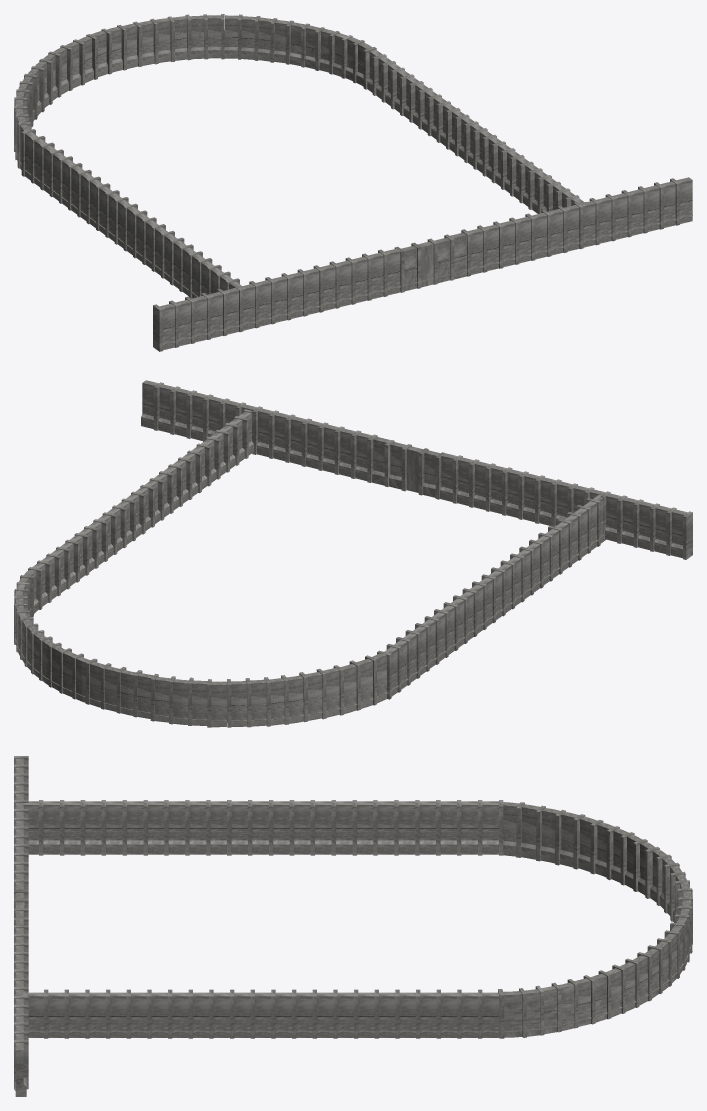
The model's file is barrier.fbx.
3 views of the same model, one above another, from view 1: azimuth 30°, elevation 25°; view 2: azimuth 150°, elevation 25°; view 3: azimuth 270°, elevation 25° (orthographic). The views are drawn at different scales.
Parts seen in each view (by area): view 1: barrier; view 2: barrier; view 3: barrier.
Boxes of the visible parts, <box> form: barrier: <box>14,14,692,351</box>; barrier: <box>14,380,692,727</box>; barrier: <box>14,756,692,1096</box>.
Bounding box in the file's own units: 59848 × 4819 × 58516.
Materials: 20 (9 with a texture image).
